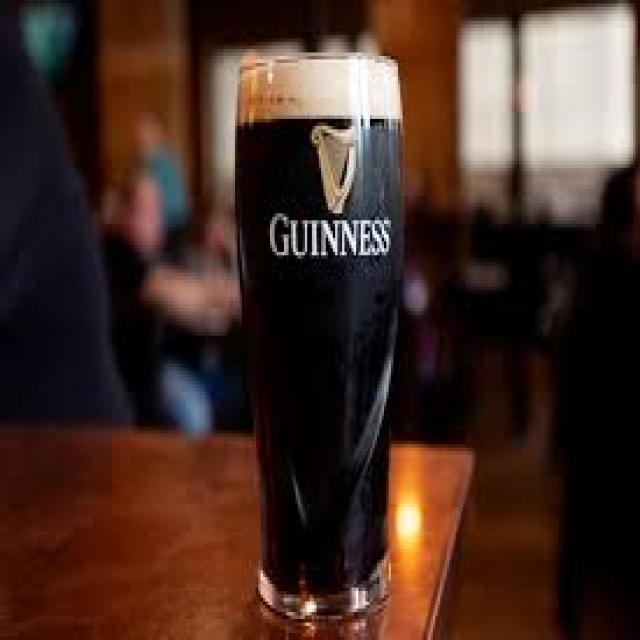guiness_full_glass: (239, 58, 404, 620)
